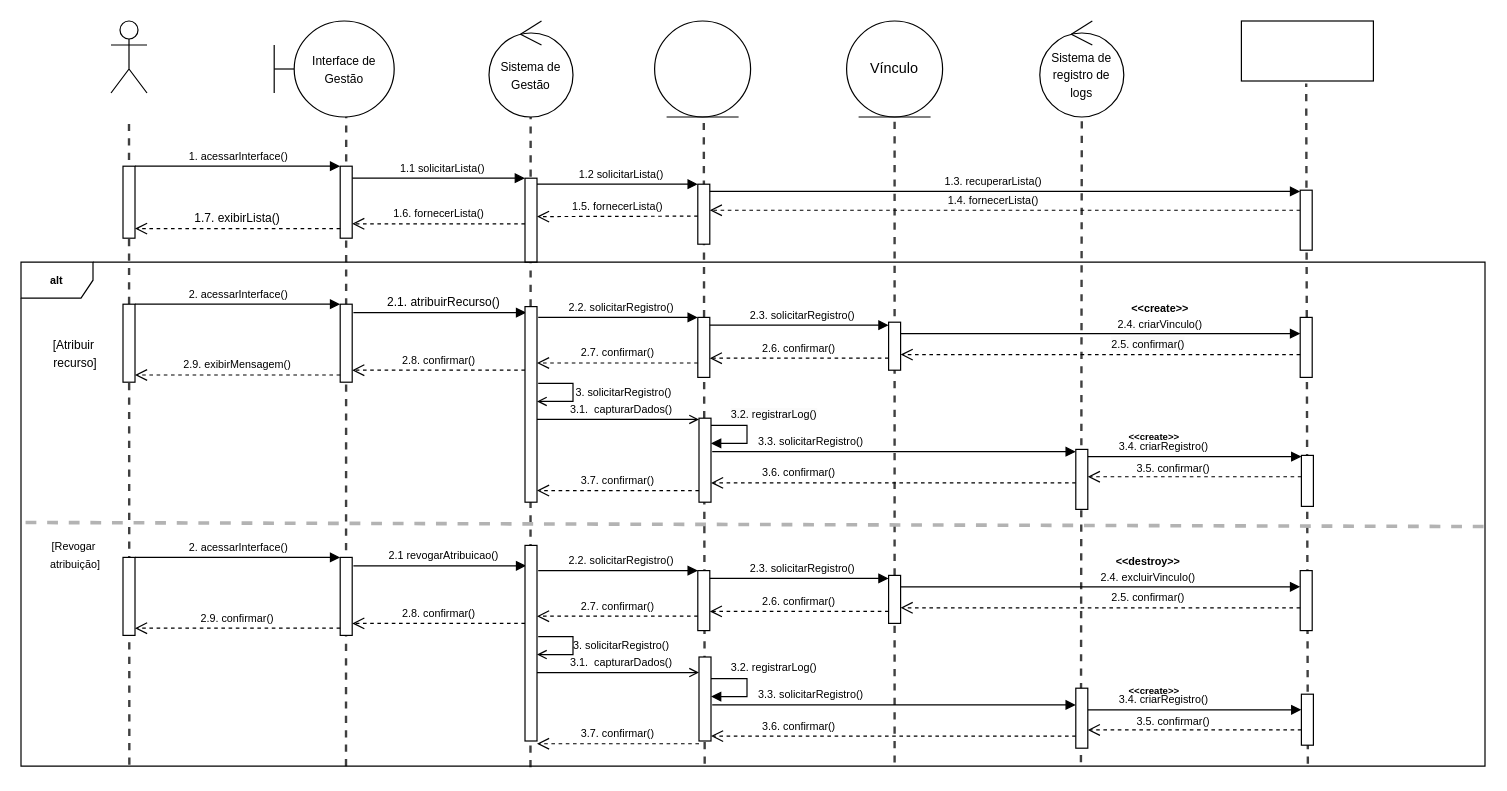
The diagram is 1507 pixels wide and 791 high, and some of its shapes have lost their labels. The box of each missing label's shape, as (x1, y1, x2, y2) in pixels:
Banco de dados: (1240, 20, 1373, 81)
Gestor administrativo: (110, 20, 147, 93)
Recurso: (653, 20, 751, 117)
